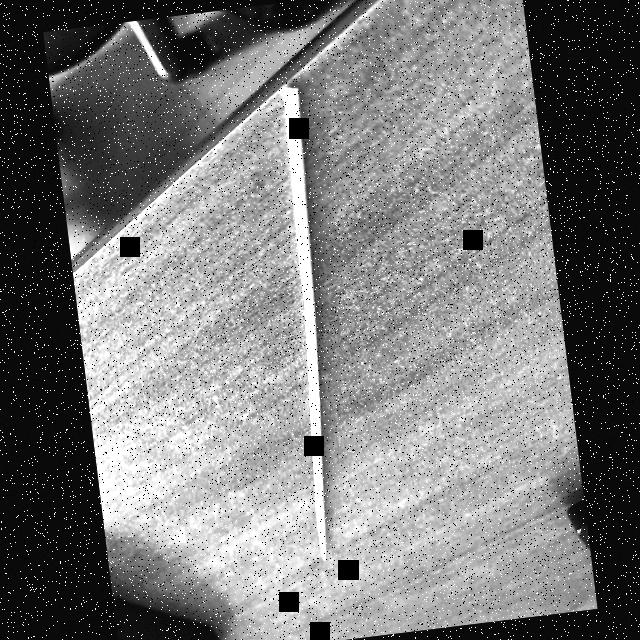stick: (215, 64, 392, 580)
